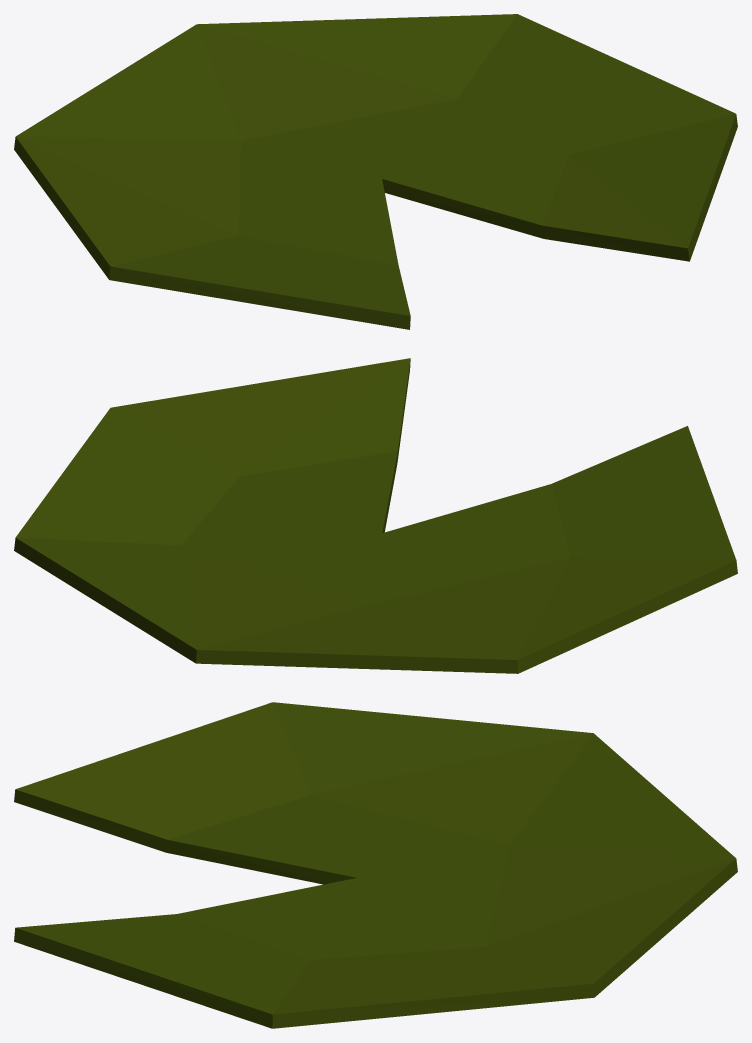
File: SmallLilyPad.fbx
The picture shows the model from 3 angles, top to bottom: view 1: azimuth 30°, elevation 25°; view 2: azimuth 150°, elevation 25°; view 3: azimuth 270°, elevation 25°; orthographic projection. The views are drawn at different scales.
Visible parts, largest first — view 1: SmallLilyPad; view 2: SmallLilyPad; view 3: SmallLilyPad.
Boxes of the visible parts, x1,y1,x2,y2 form: SmallLilyPad: [14, 14, 737, 329]; SmallLilyPad: [14, 358, 737, 673]; SmallLilyPad: [14, 702, 737, 1028].
Size of the model in its own units: 126 by 6.15 by 122.
